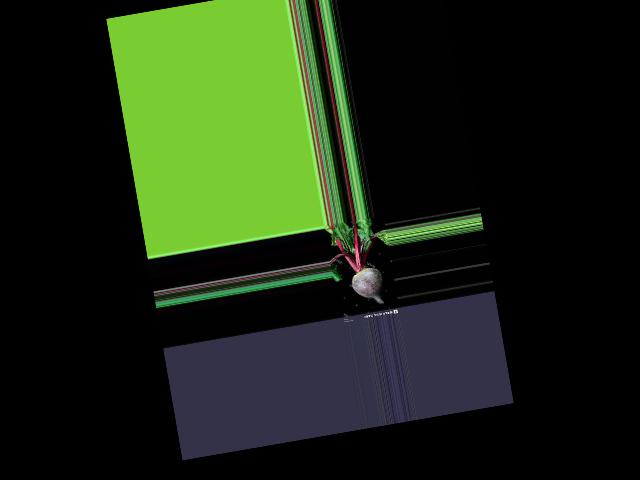beet: (323, 215, 398, 311)
